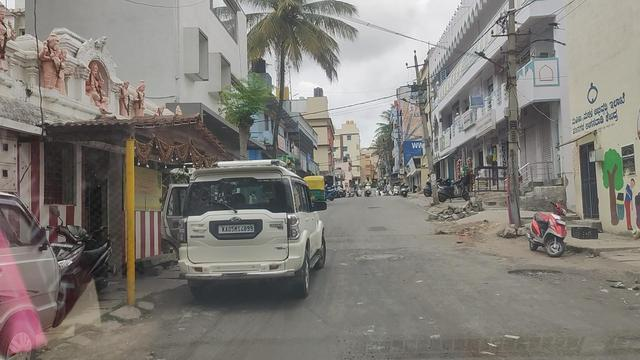RoadDamages: (510, 259, 562, 282), (355, 249, 409, 267)
